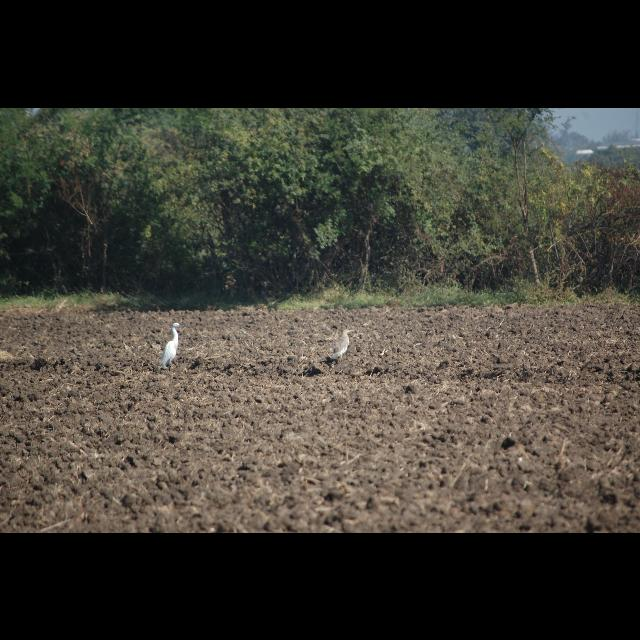egret: (153, 312, 189, 373), (330, 322, 356, 366)
